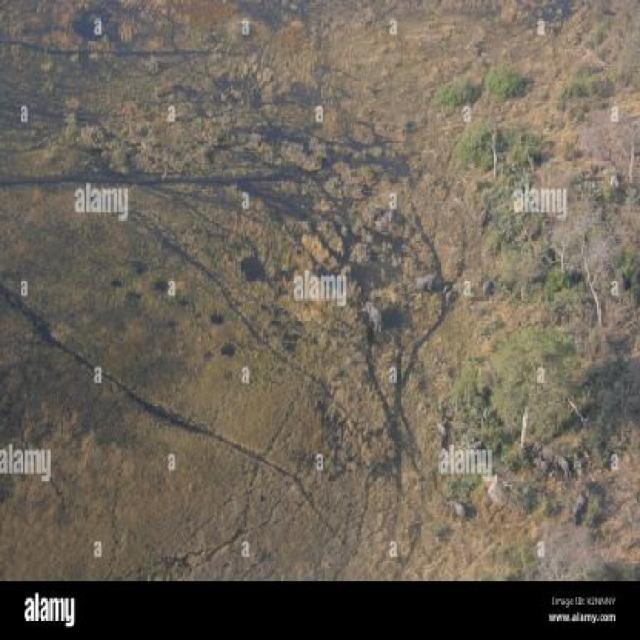elephant: (361, 300, 387, 335), (569, 490, 588, 532), (532, 437, 556, 466), (478, 198, 493, 238), (448, 495, 466, 527), (556, 452, 575, 482), (412, 271, 436, 292), (611, 266, 629, 294), (530, 458, 548, 480), (479, 277, 495, 300), (436, 419, 447, 447), (443, 288, 459, 306), (441, 278, 452, 296)
